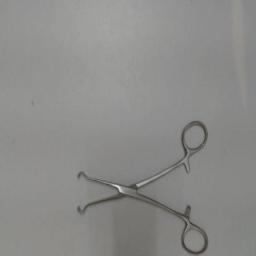Babcock Tissue Forceps: (70, 112, 214, 256)
